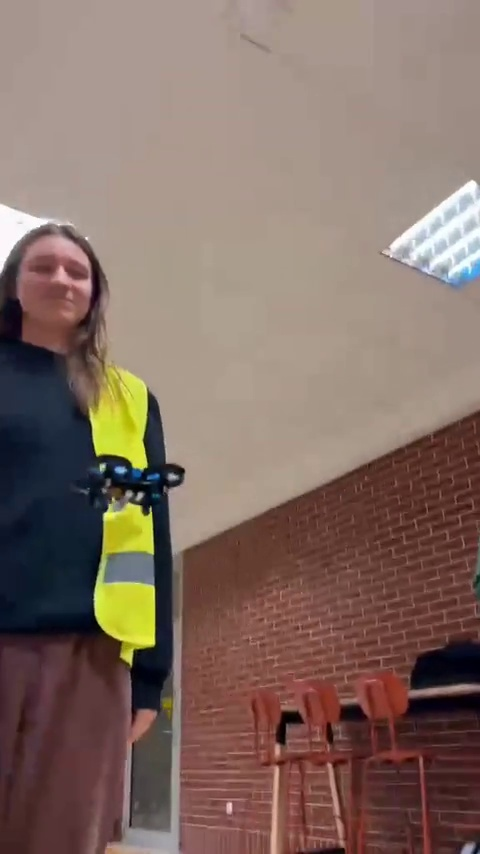drone: (83, 455, 179, 512)
vest: (0, 226, 176, 852)
